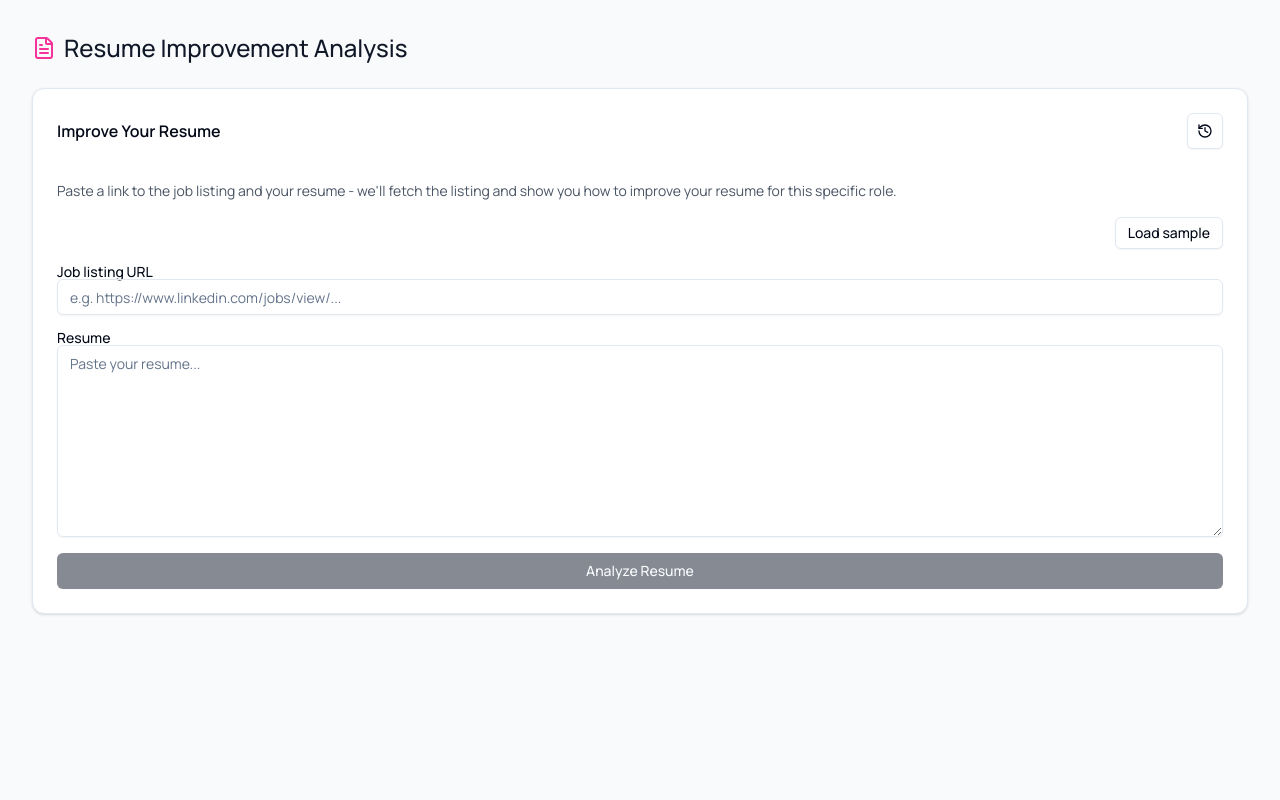
Test: Resume Improvement Analysis page › renders a structured coaching UI (not raw markdown) when the result is valid JSON matching the schema
Type "https://example.com/jobs/123" into the field labelled "Job listing URL" at x=640, y=297, box [57, 279, 1223, 315]
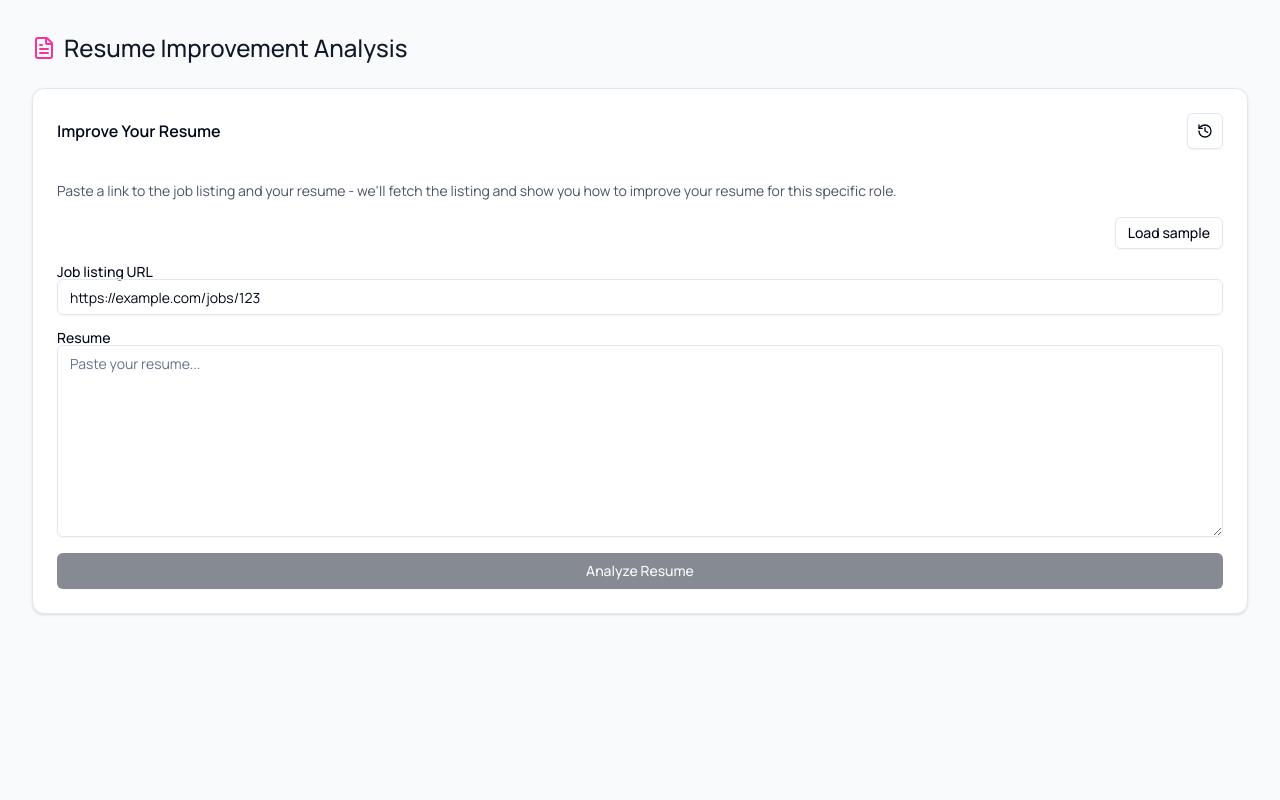
Type "Jane Doe, 6 years experience." into the text box labelled "Resume" at x=640, y=441, box [57, 345, 1223, 537]
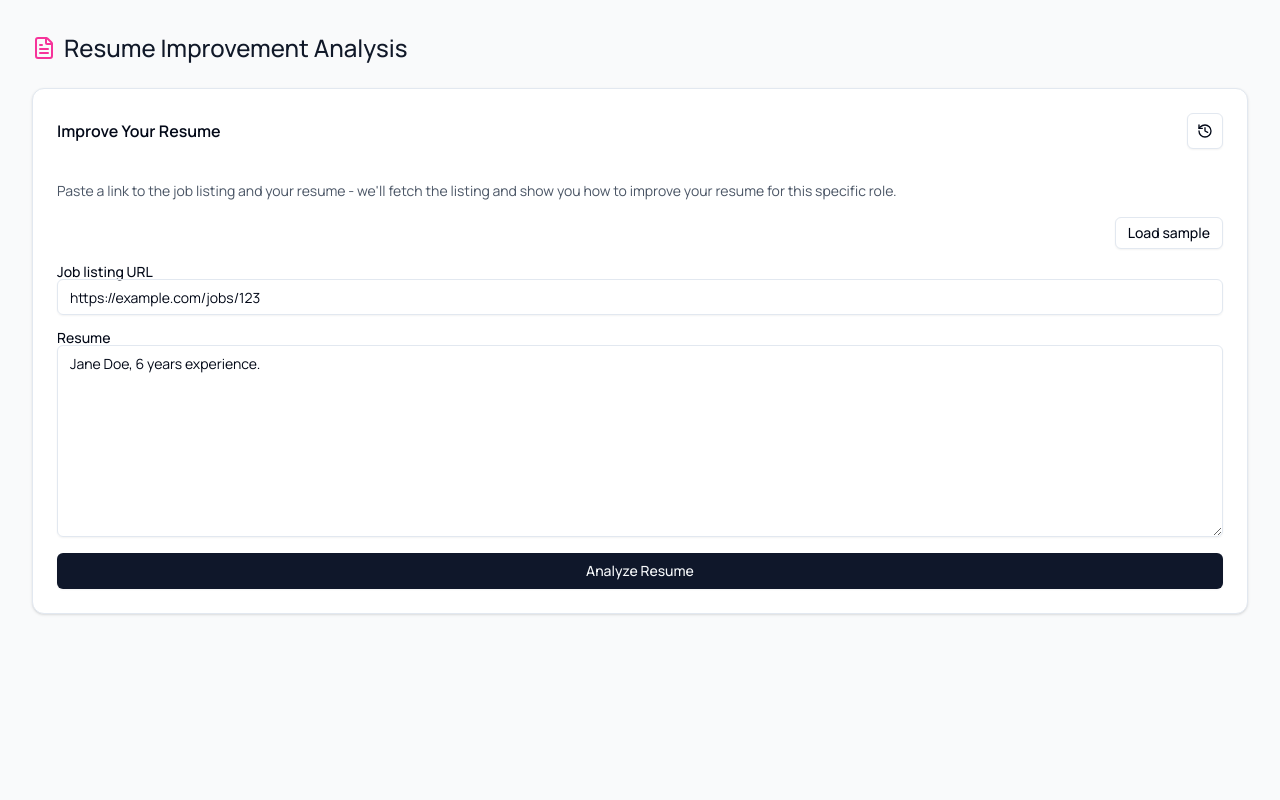
Click the button "Analyze Resume" at x=640, y=571, box [57, 553, 1223, 589]
(page scrolled)
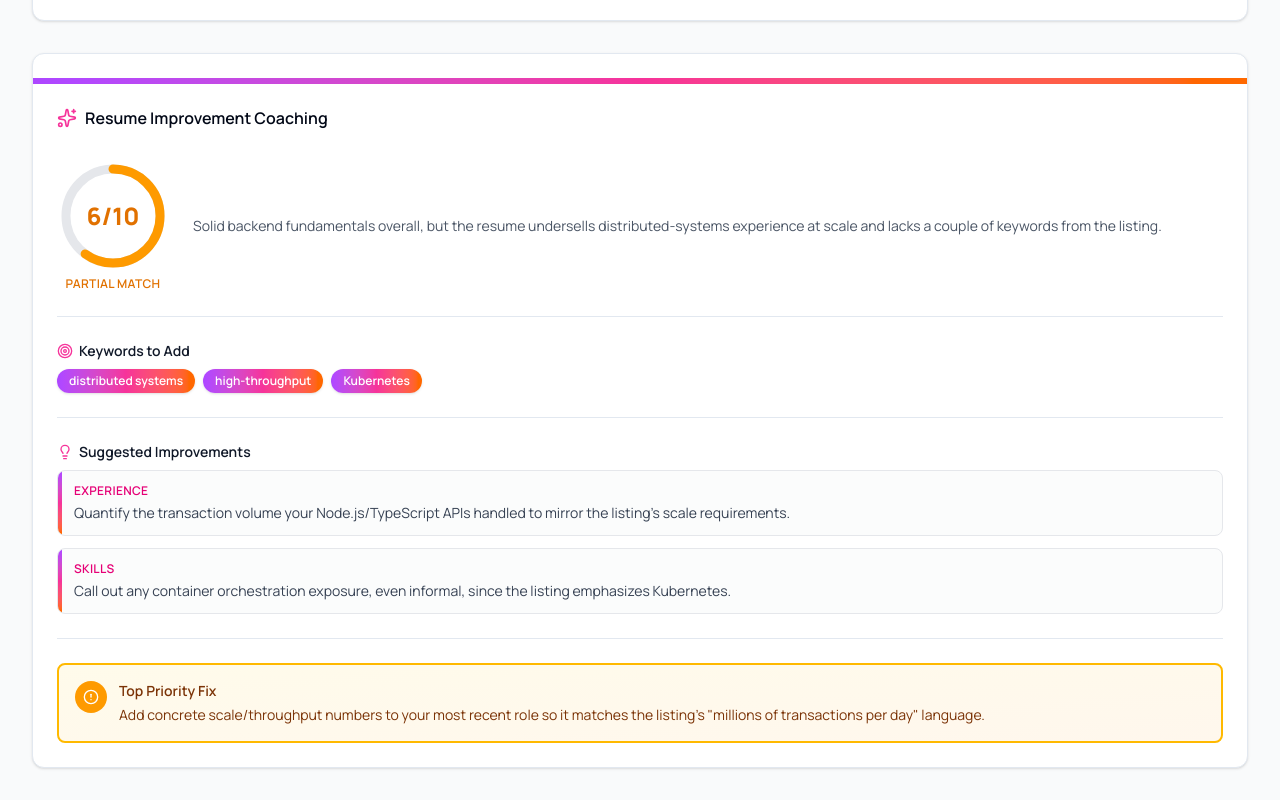
Check: the text with test id "match-score" reads "6/10", box [87, 200, 139, 232]
Check: the text with test id "overall-assessment" shows "Solid backend fundamentals overall, but the resume undersells distributed-systems experience at scale and lacks a couple of keywords from the listing.", box [193, 216, 1162, 235]
Check: the text "distributed systems" is shown, box [57, 369, 195, 393]
